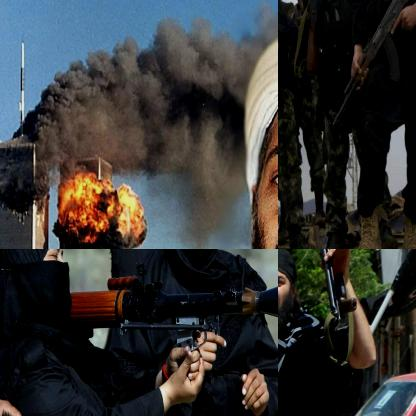rifle: (0, 271, 277, 350), (326, 0, 415, 132), (302, 249, 359, 330), (284, 0, 321, 76)
